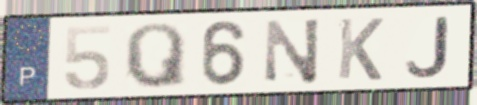5: (62, 23, 114, 92)
6: (200, 19, 250, 88)
J: (404, 15, 452, 80)
K: (334, 16, 386, 83)
N: (263, 15, 323, 86)
Q: (121, 21, 189, 91)
